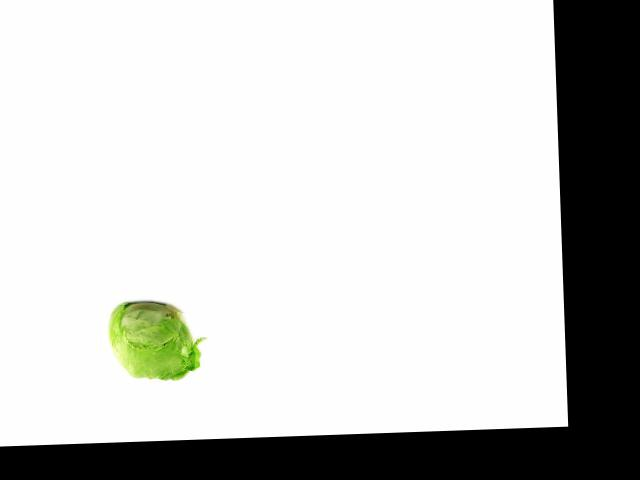lettuce: (104, 296, 198, 386)
